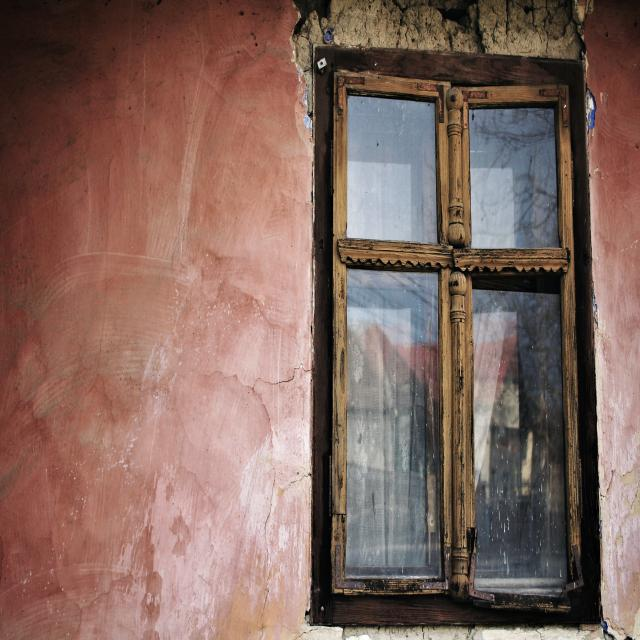Glass: (344, 88, 574, 588)
